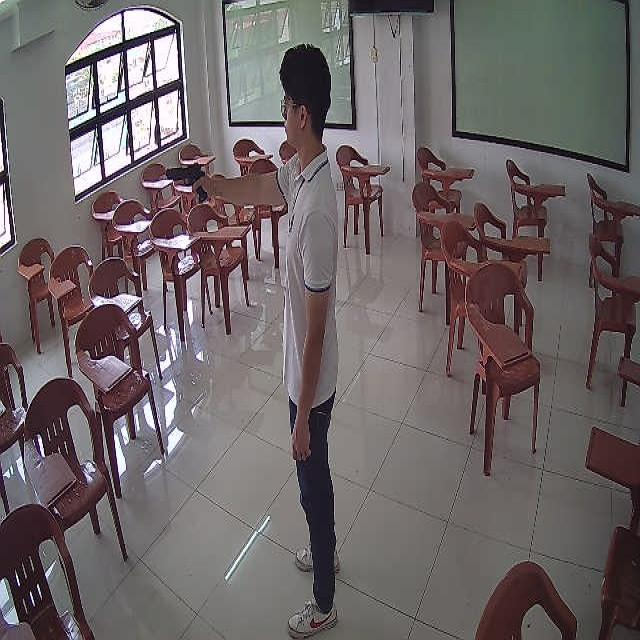pistol: (165, 164, 205, 199)
